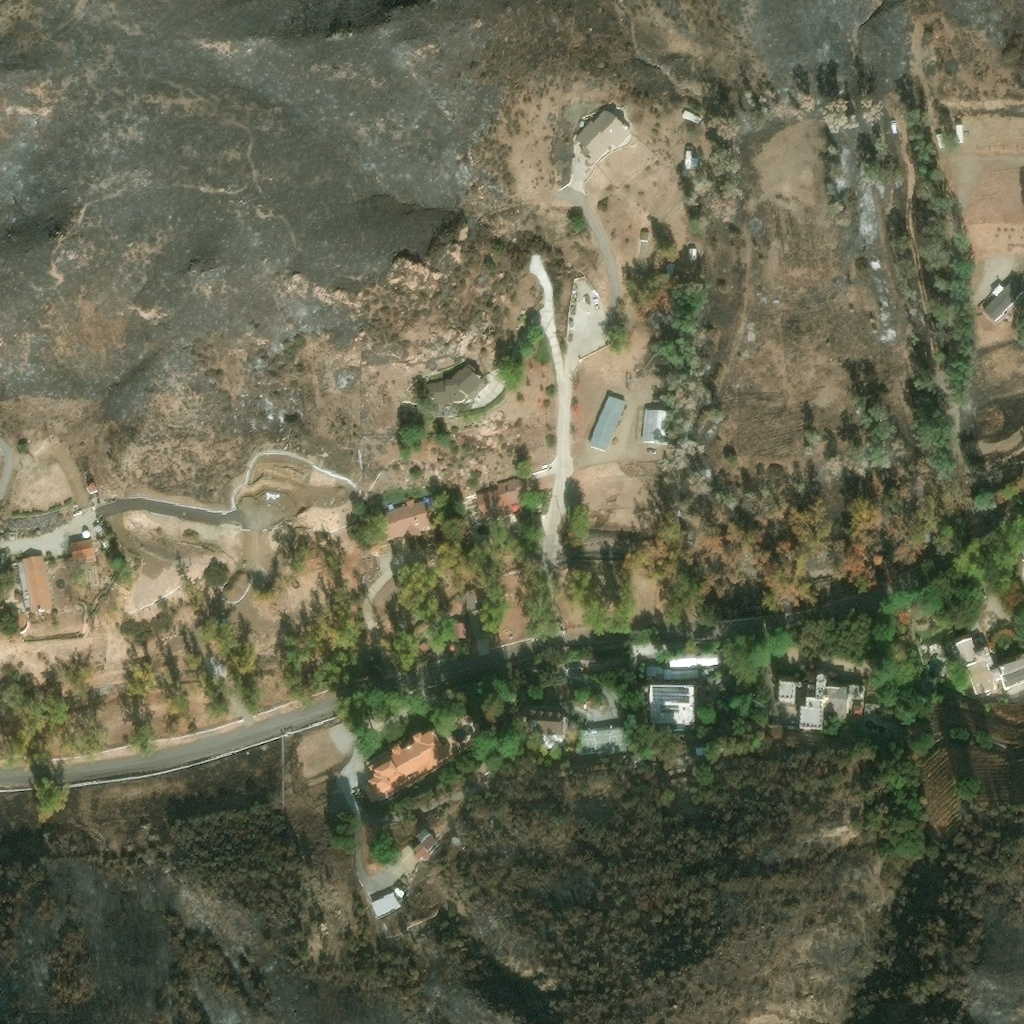0 no-damage: (362, 728, 455, 807), (954, 637, 1023, 697), (575, 109, 632, 167), (799, 670, 850, 731), (377, 499, 432, 545), (428, 365, 486, 408), (476, 478, 524, 523), (589, 396, 626, 452), (981, 280, 1023, 327), (18, 556, 52, 614), (650, 685, 697, 724), (521, 710, 568, 737), (642, 410, 671, 446), (412, 828, 440, 862), (67, 540, 97, 569), (372, 890, 402, 918), (468, 609, 491, 642), (778, 682, 798, 703), (681, 111, 703, 126), (682, 152, 694, 178), (866, 703, 882, 721), (463, 592, 477, 611), (455, 623, 466, 639), (936, 135, 946, 151), (419, 642, 432, 654), (956, 125, 964, 144), (88, 482, 99, 494), (689, 248, 697, 261), (853, 705, 863, 715), (891, 120, 898, 134), (82, 530, 91, 540), (641, 232, 649, 243), (927, 639, 933, 648), (875, 714, 882, 721), (95, 525, 102, 532), (558, 738, 564, 745), (932, 639, 937, 644), (655, 397, 661, 401)
